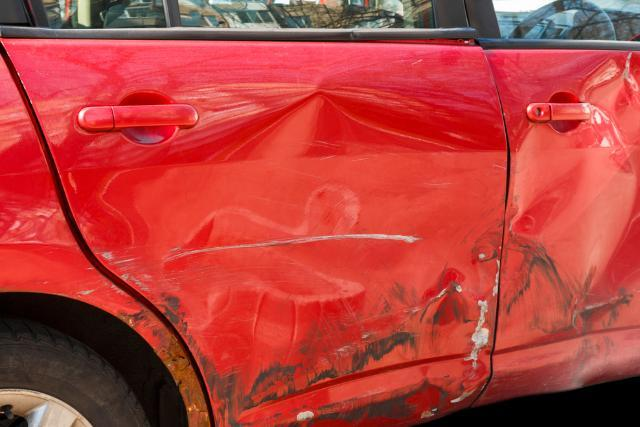Door: (2, 36, 640, 427)
Fender: (0, 27, 213, 427)
